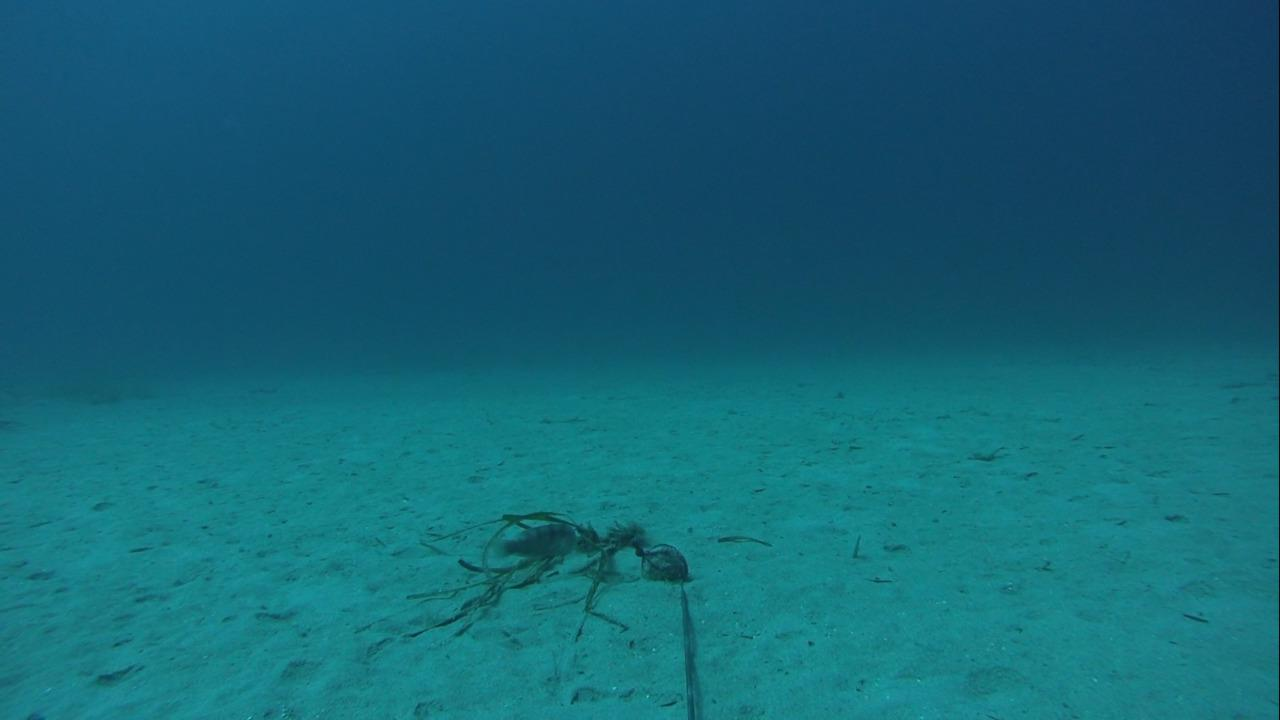raor: (489, 519, 581, 564)
